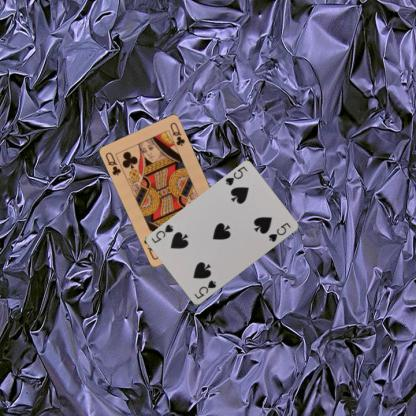5s: (223, 164, 249, 187), (192, 278, 217, 300)
Qc: (103, 150, 122, 176)
